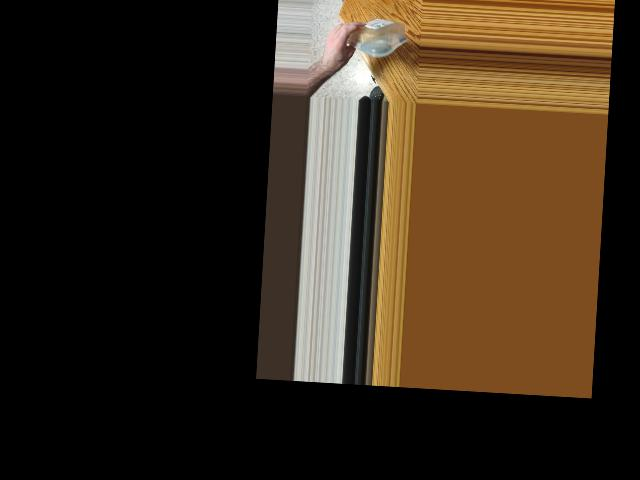cheese: (334, 14, 408, 56)
